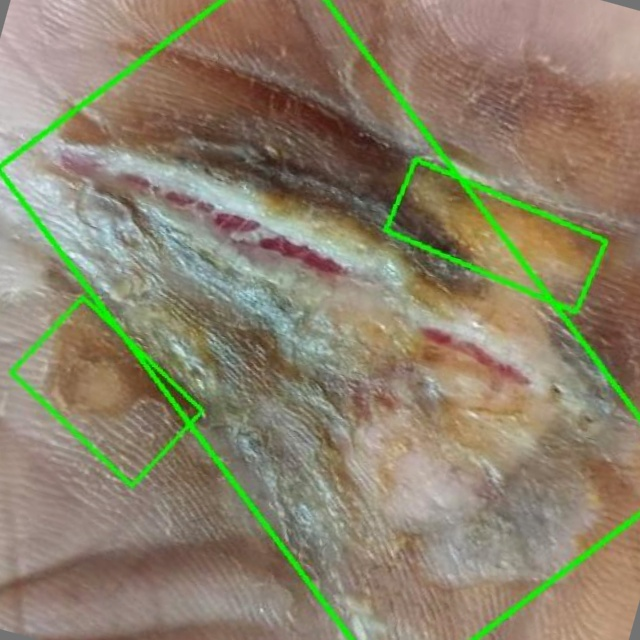Eczema: (0, 0, 639, 639), (12, 296, 203, 485), (385, 159, 606, 311)
